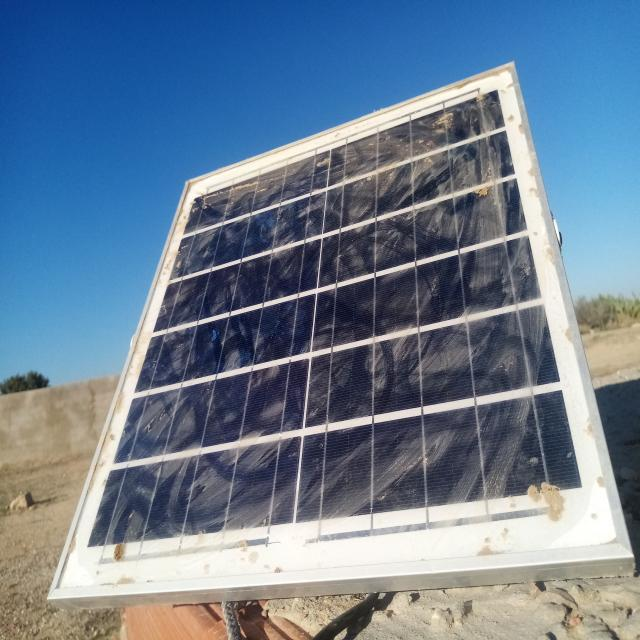faulty: (51, 64, 629, 595)
